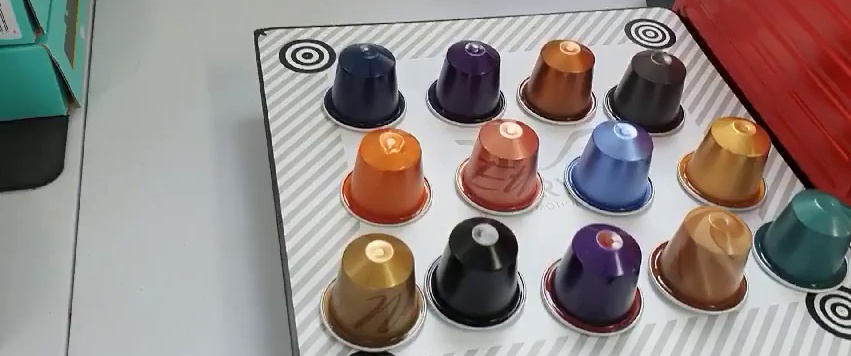capsule_1: (320, 42, 408, 128)
capsule_10: (423, 215, 532, 328)
capsule_11: (541, 221, 644, 330)
capsule_12: (648, 200, 750, 314)
capsule_13: (754, 190, 848, 293)
capsule_2: (429, 40, 512, 123)
capsule_3: (522, 39, 601, 125)
capsule_4: (607, 47, 689, 131)
capsule_5: (339, 129, 433, 221)
capsule_6: (451, 115, 545, 216)
capsule_7: (565, 118, 659, 218)
capsule_8: (679, 116, 770, 209)
capsule_9: (318, 233, 426, 350)
